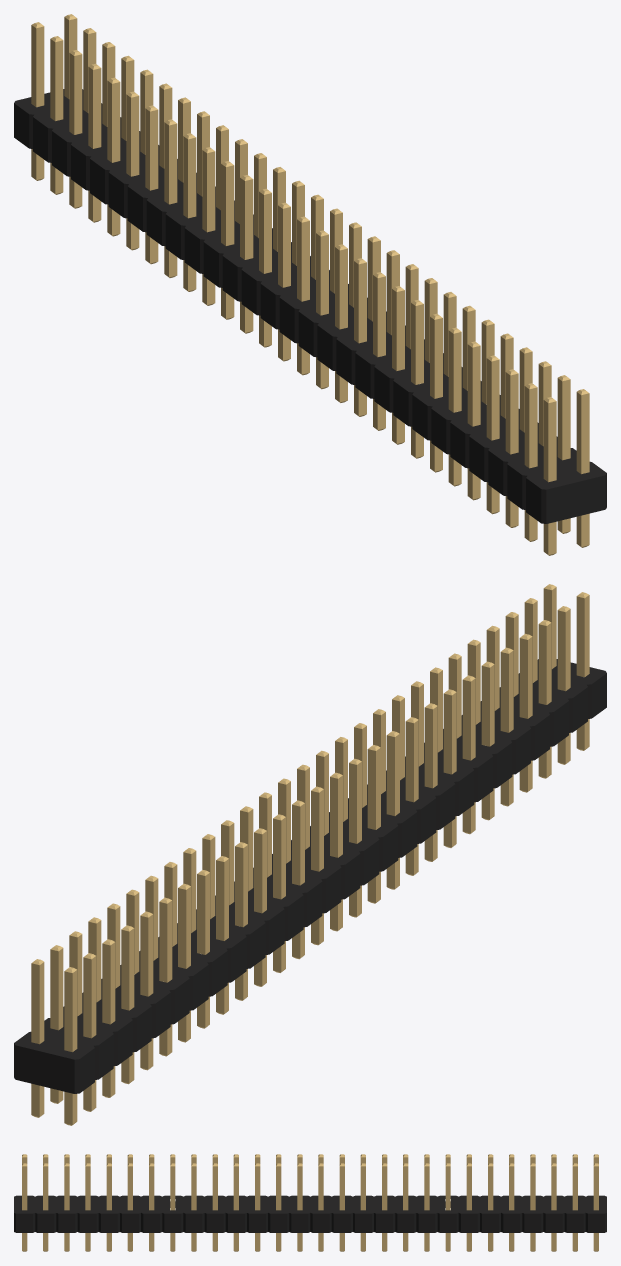
Rendered from kc-pinheader_2x28_p2.54mm_vertical.glb.
3 views of the same model, one above another, from view 1: azimuth 30°, elevation 25°; view 2: azimuth 150°, elevation 25°; view 3: azimuth 270°, elevation 25° (orthographic). The views are drawn at different scales.
Visible parts, largest first — view 1: 0.75_0.5_0.25_0.9, 0_0_0_0; view 2: 0.75_0.5_0.25_0.9, 0_0_0_0; view 3: 0_0_0_0, 0.75_0.5_0.25_0.9.
Boxes of the visible parts, left/top/right/bottom form: 0.75_0.5_0.25_0.9: left=31, top=14, right=589, bottom=555; 0_0_0_0: left=14, top=89, right=606, bottom=523; 0.75_0.5_0.25_0.9: left=31, top=584, right=589, bottom=1125; 0_0_0_0: left=14, top=659, right=606, bottom=1093; 0_0_0_0: left=14, top=1195, right=606, bottom=1232; 0.75_0.5_0.25_0.9: left=22, top=1154, right=598, bottom=1251.
Bounding box in the file's own units: 0.5079 × 1.15 × 7.11.
